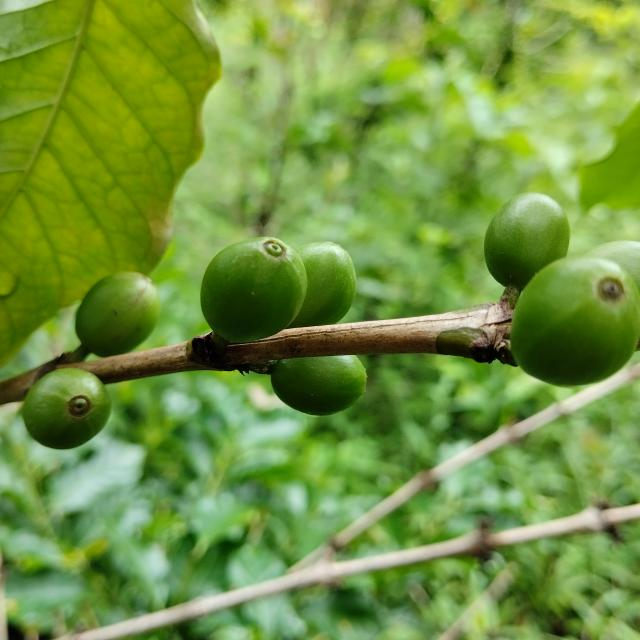green: (511, 256, 640, 386), (200, 237, 308, 343), (485, 192, 571, 290), (21, 368, 110, 450), (75, 272, 160, 357), (288, 242, 356, 328), (271, 356, 367, 416), (586, 240, 640, 291)
